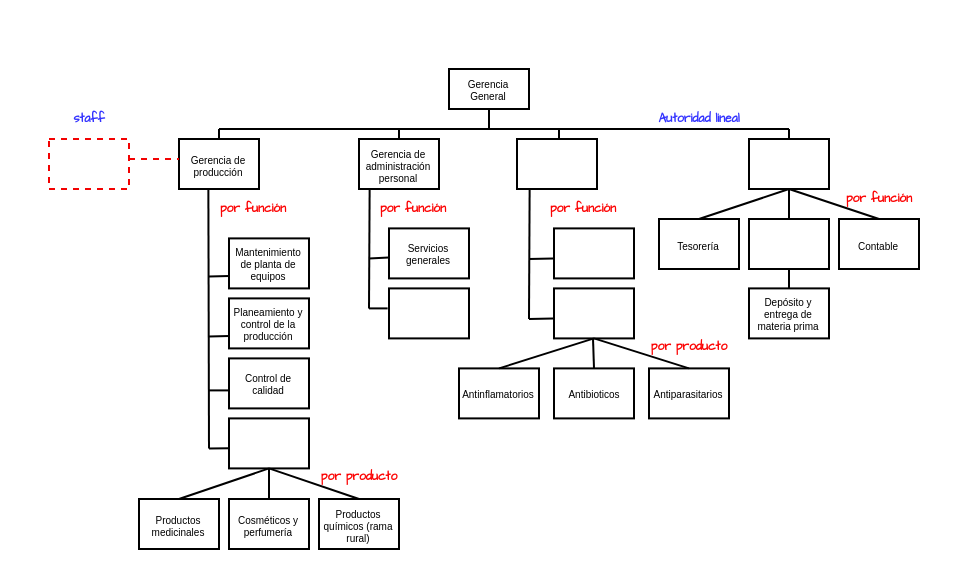
This 968x586 diagram has some shape labels left out. Here are the shapes that lost their labels. From the top down, the box of each, then its label:
(47, 137, 129, 189): Ing. Químico
(515, 137, 597, 189): Gerencia comercial
(747, 137, 829, 189): Gerencia de finanzas y control
(552, 226, 634, 278): Publicidad y Promociones
(747, 217, 829, 269): Compras
(387, 286, 469, 338): Personal
(552, 286, 634, 338): Ventas
(227, 416, 309, 468): Fabricación
